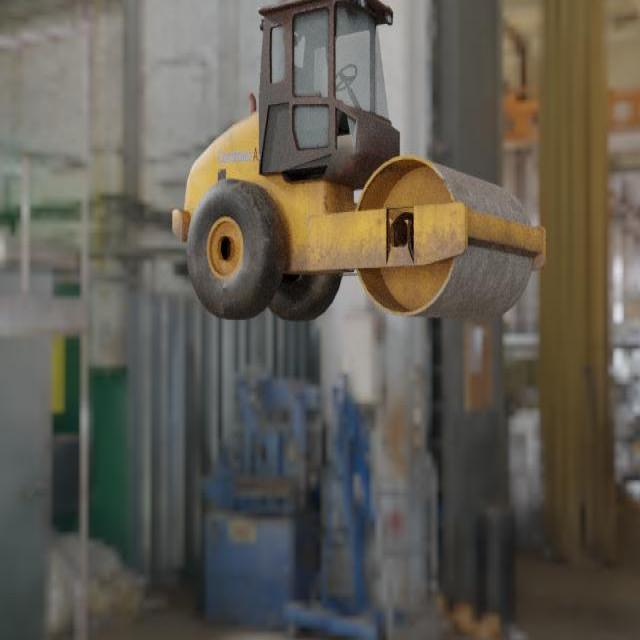Roller: (172, 0, 546, 323)
